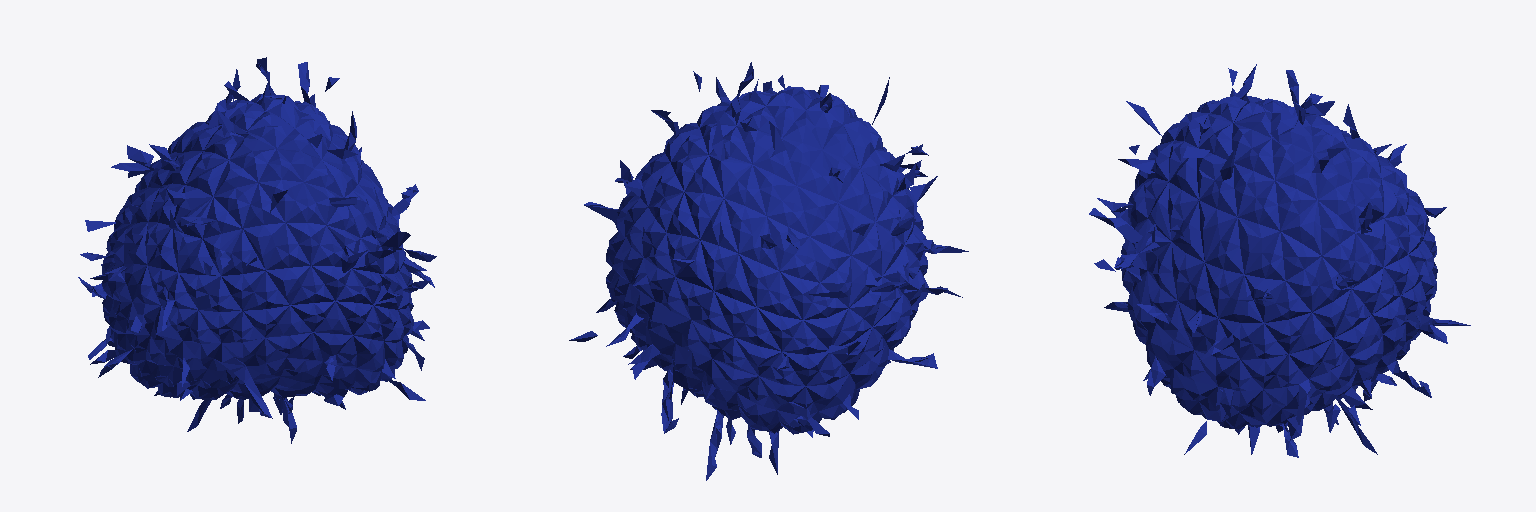
The model's file is 肿瘤细胞.obj.
3 renders of one model, left to right at view 1: azimuth 30°, elevation 25°; view 2: azimuth 150°, elevation 25°; view 3: azimuth 270°, elevation 25°, orthographic.
Parts seen in each view (by area): view 1: VRayProxy009; view 2: VRayProxy009; view 3: VRayProxy009.
Boxes of the visible parts, <box> form: VRayProxy009: <box>78,57,436,443</box>; VRayProxy009: <box>569,62,968,480</box>; VRayProxy009: <box>1089,64,1470,457</box>.
Bounding box in the file's own units: 1.62 × 1.83 × 1.64.